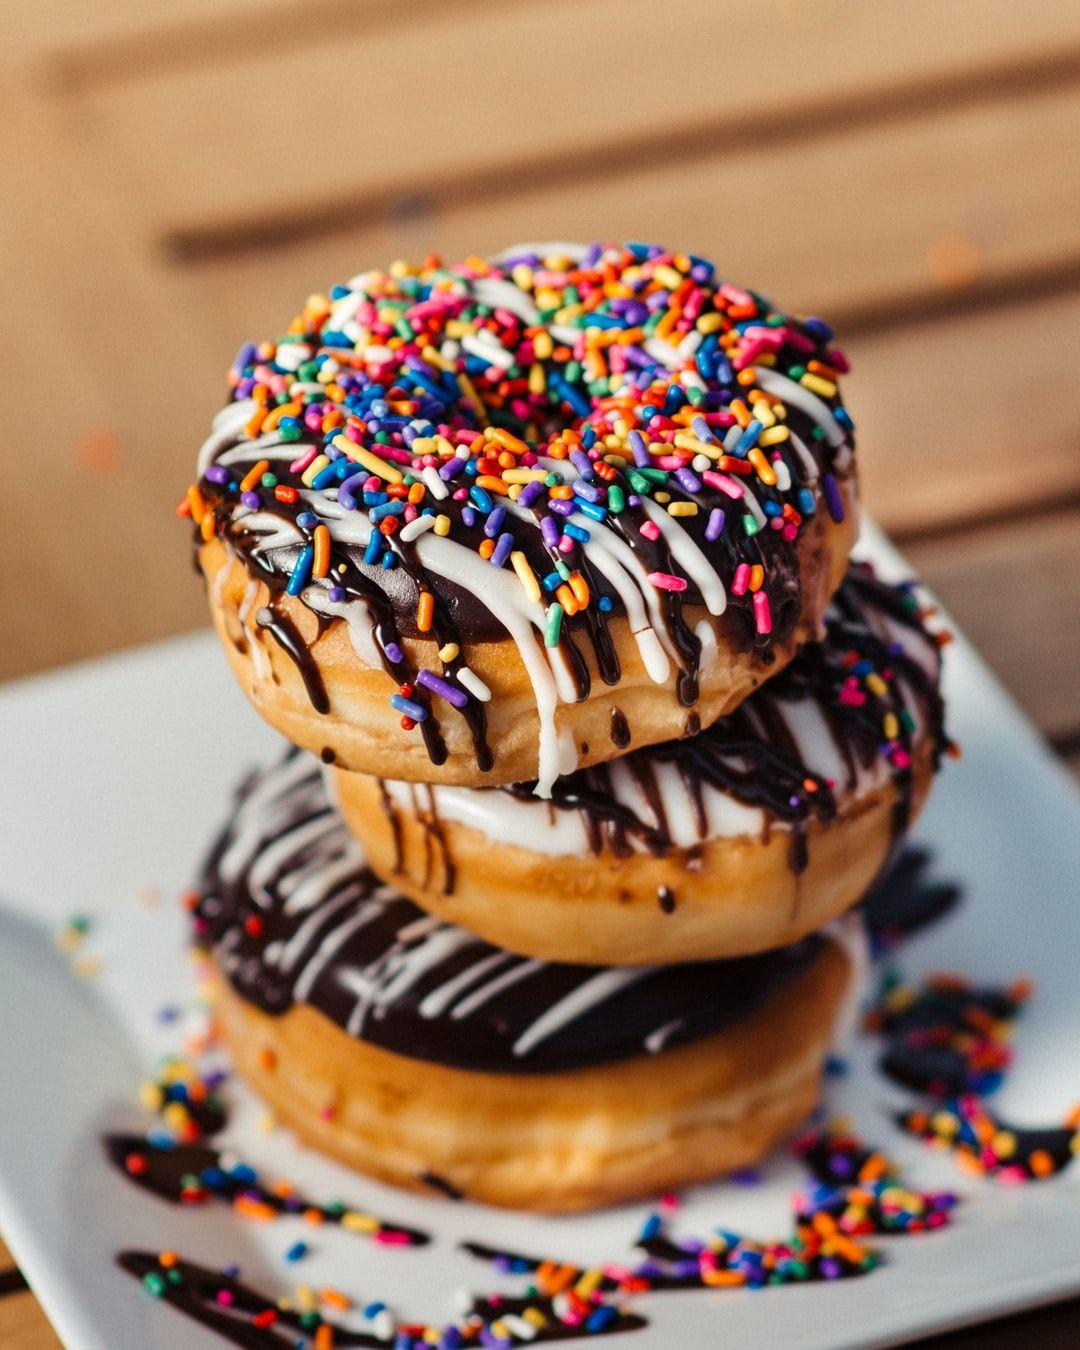donut: (196, 226, 858, 782), (96, 883, 863, 1194), (344, 659, 974, 935)
